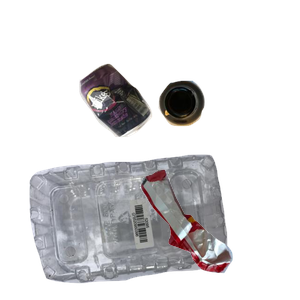glass: (156, 78, 300, 197)
metal: (77, 61, 222, 191)
plastic: (27, 152, 247, 300)
trash: (139, 167, 300, 300)
